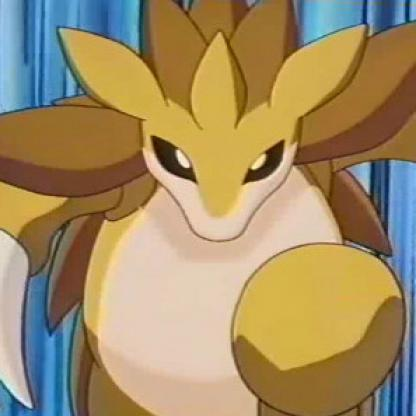Sandslash: (1, 1, 416, 416)
